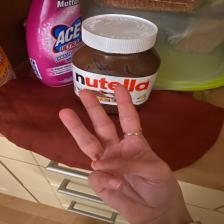five: (54, 82, 184, 220)
